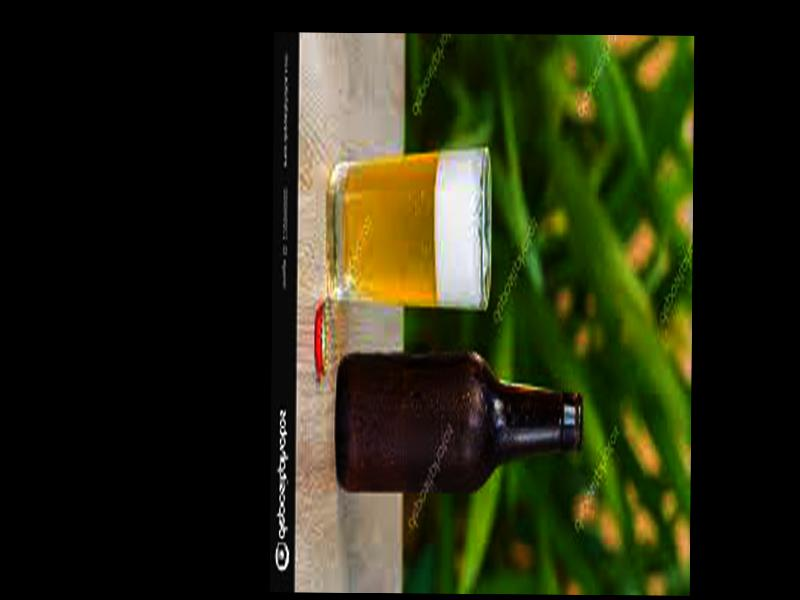Beer: (333, 353, 581, 487)
